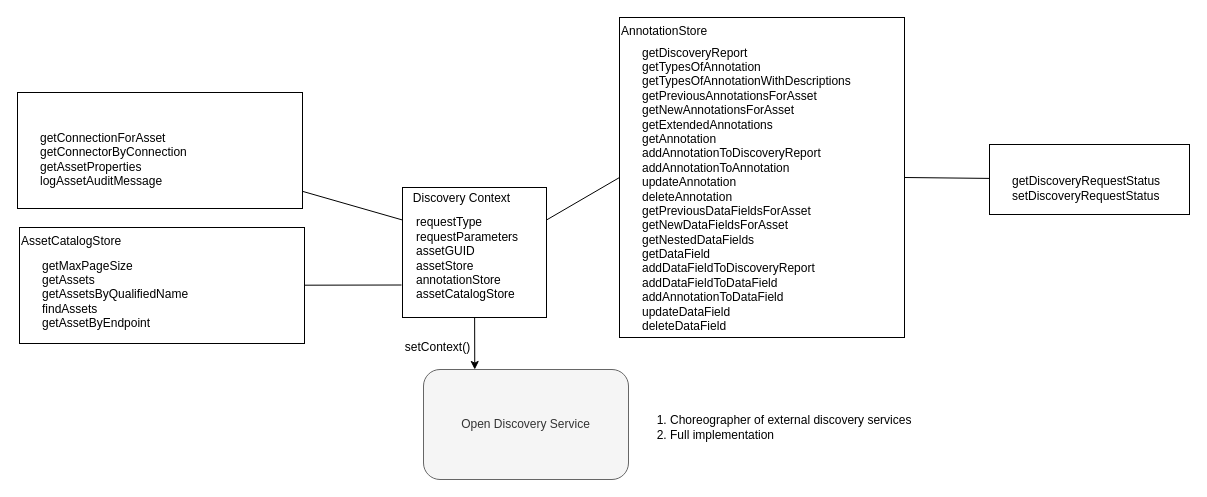
Some shapes in this 1207 by 497 pixel diagram are drawn without their labels. The box of each missing label's shape, as (x1, y1, x2, y2) in pixels:
AssetStore: (16, 92, 302, 208)
DiscoveryReportStore: (988, 144, 1190, 214)
